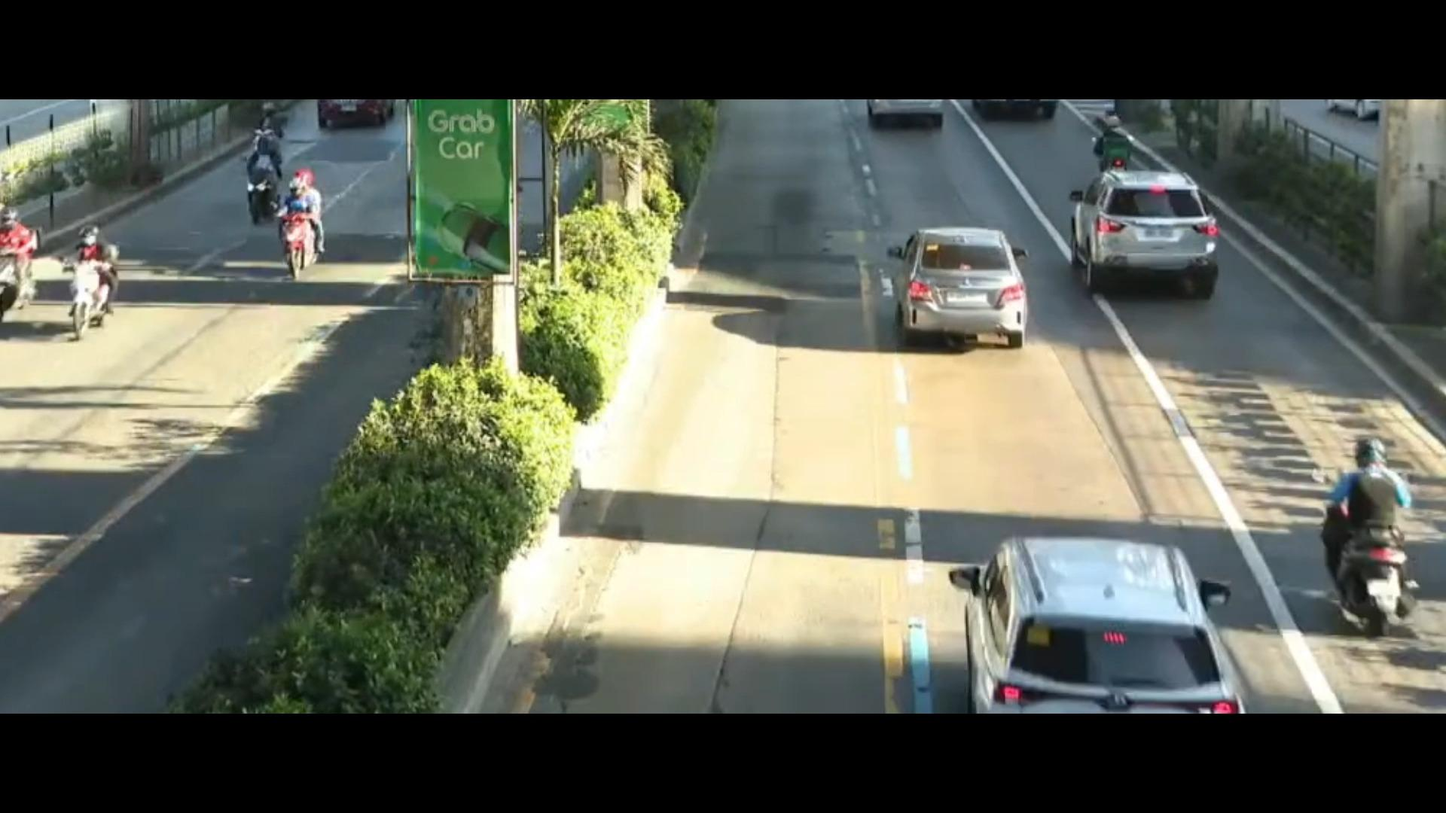Motorcycle: (1310, 429, 1446, 642), (45, 215, 130, 347), (259, 168, 351, 270), (231, 117, 307, 229), (0, 204, 48, 330), (1087, 115, 1155, 172)
SUV: (951, 505, 1224, 715), (1063, 169, 1222, 306)
Sedan: (894, 207, 1051, 369)
